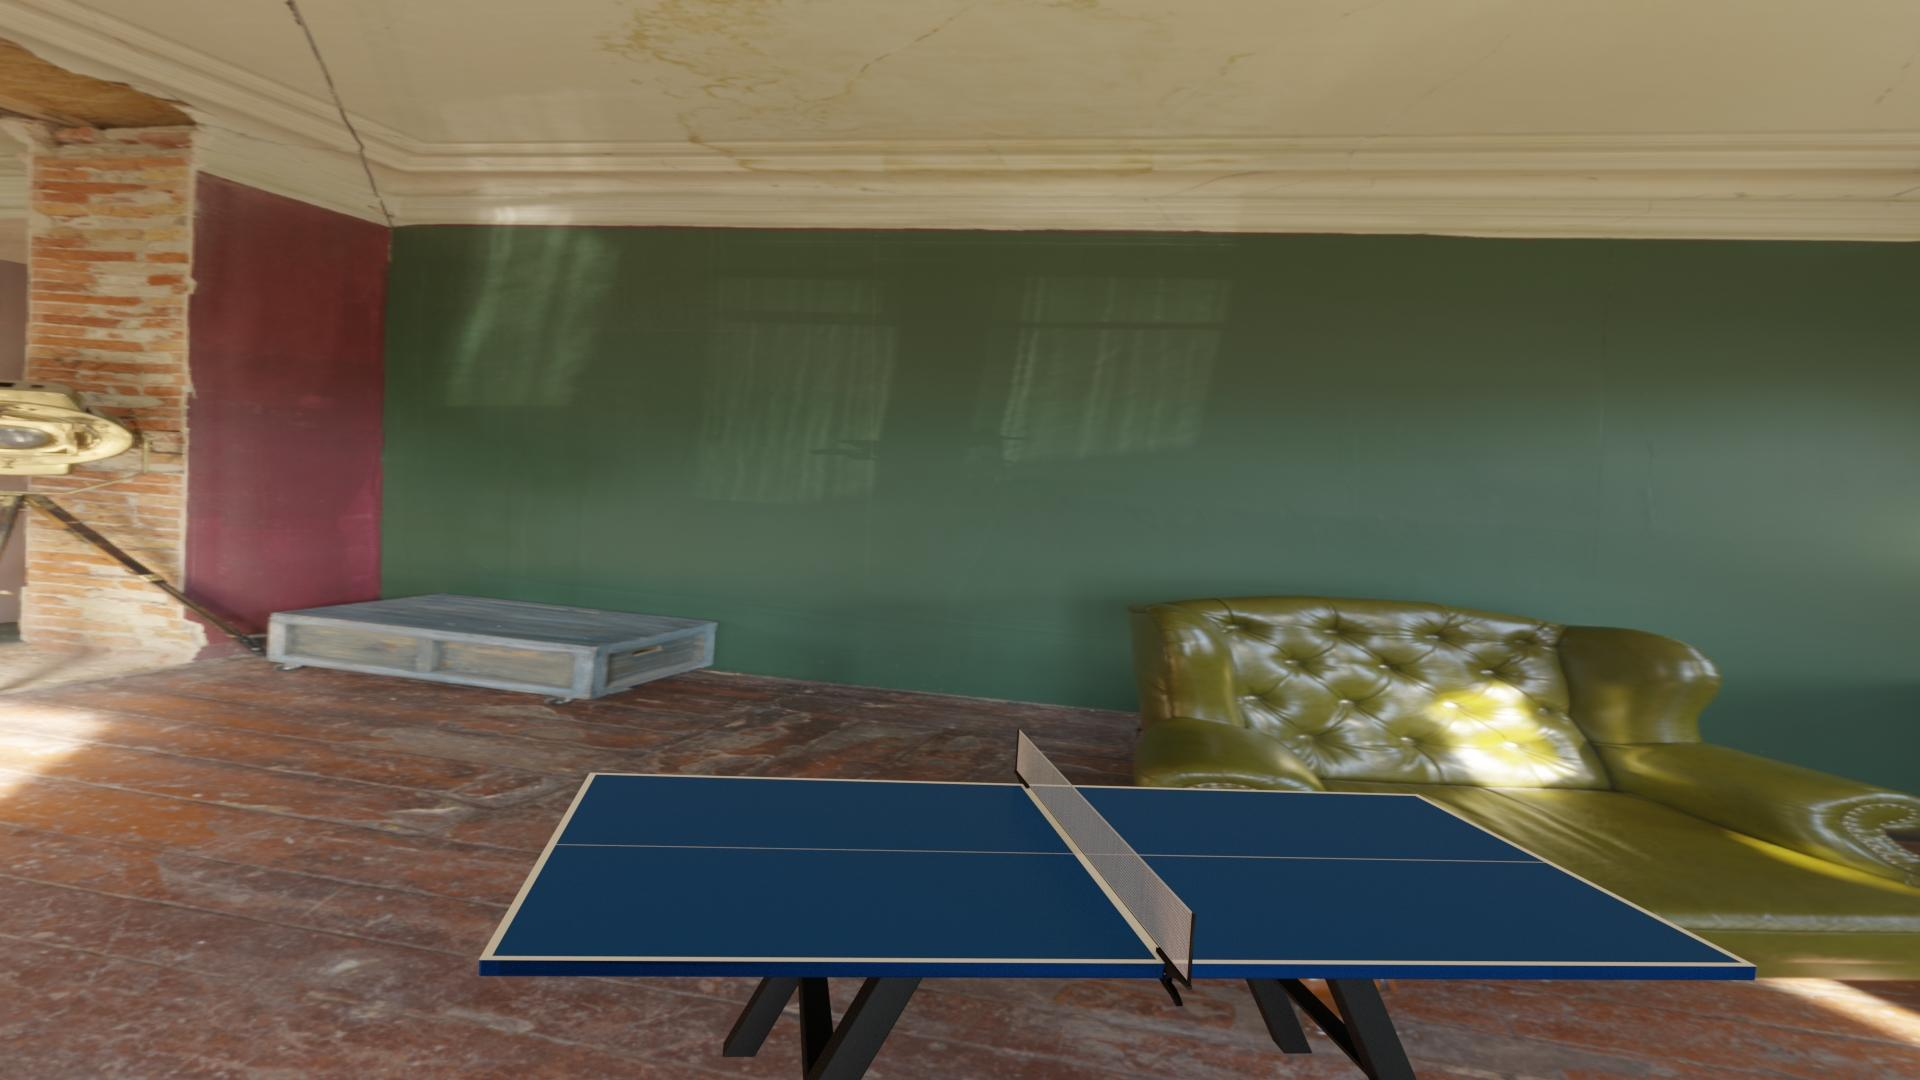table: (492, 774, 1743, 963)
